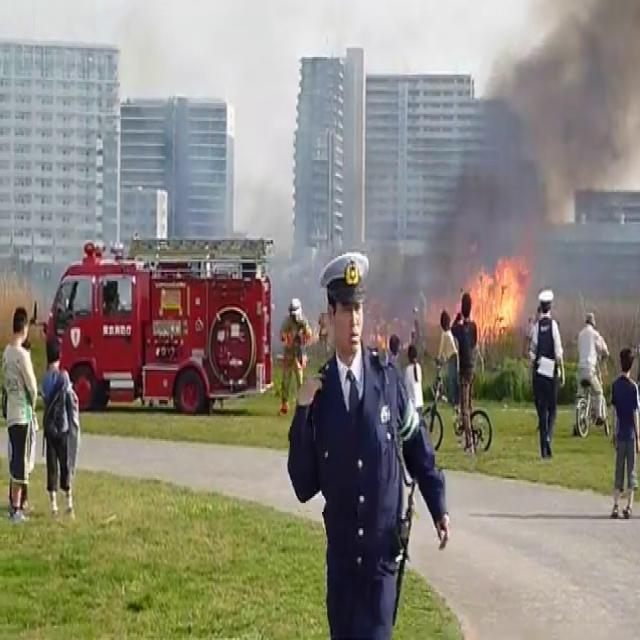Fire: (459, 254, 532, 340)
Smoke: (428, 0, 640, 281)
